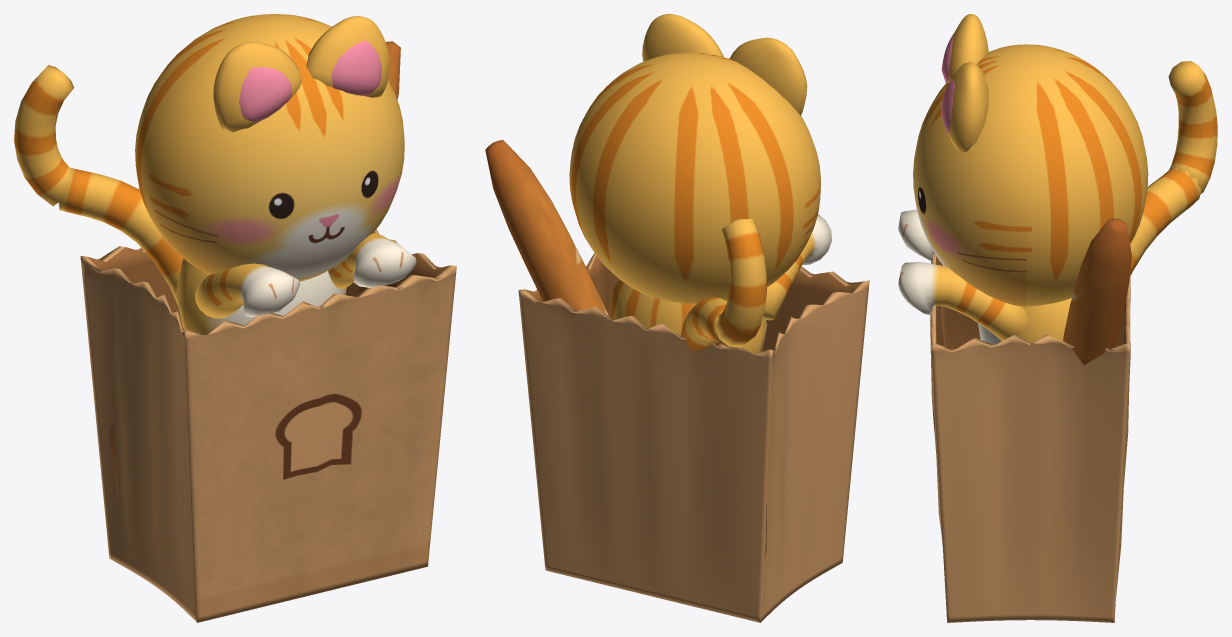
File: bread_cat.glb
3 renders of one model, left to right at view 1: azimuth 30°, elevation 25°; view 2: azimuth 150°, elevation 25°; view 3: azimuth 270°, elevation 25°, orthographic. The views are drawn at different scales.
Parts seen in each view (by area): view 1: Bag, Head, Tail2, Tail, ArmR, Body, ArmL; view 2: Bag, Head, Baguette, Tail2, Body, ArmR, Tail; view 3: Bag, Head, Baguette, ArmL, Tail2, Tail, Body, ArmR.
Part boxes in pixels (box(x1,y1,x2,y2)): Bag: box(80, 229, 456, 622); Head: box(135, 14, 404, 281); Tail2: box(14, 65, 74, 206); Tail: box(58, 168, 183, 305); ArmR: box(195, 263, 300, 318); Body: box(176, 258, 346, 334); ArmL: box(328, 233, 416, 289); Bag: box(518, 253, 869, 622); Head: box(569, 14, 820, 303); Baguette: box(485, 140, 608, 315); Tail2: box(715, 219, 766, 347); Body: box(608, 278, 767, 354); ArmR: box(763, 214, 831, 320); Tail: box(680, 297, 734, 350); Bag: box(930, 253, 1130, 622); Head: box(913, 14, 1148, 306); Baguette: box(1063, 218, 1131, 365); ArmL: box(898, 262, 1029, 340); Tail2: box(1168, 61, 1217, 194); Tail: box(1130, 167, 1201, 275); Body: box(978, 298, 1071, 344); ArmR: box(898, 209, 934, 261).
Size of the model in its own units: 0.8956 by 1.4 by 0.7664.
1 material, 1 textured.
